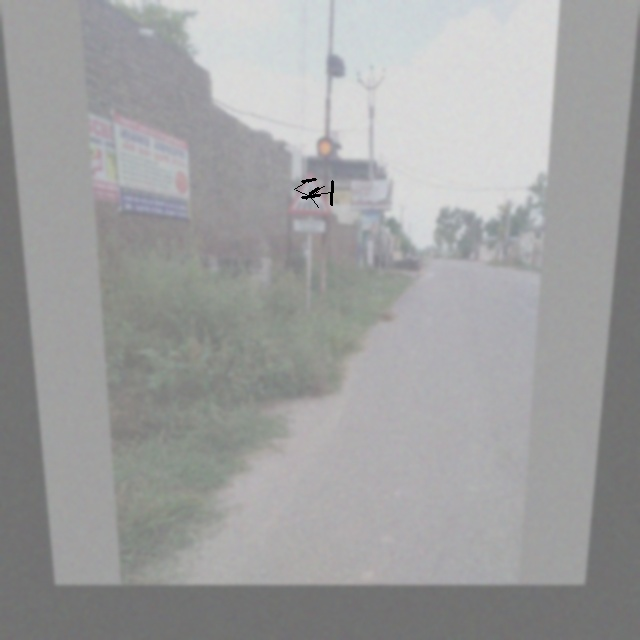Pedestrian_Crossing: (282, 172, 339, 224)
